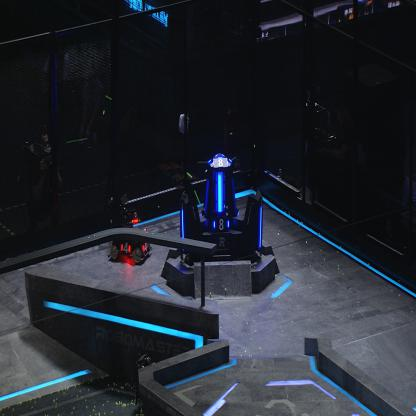car: (109, 205, 153, 264)
